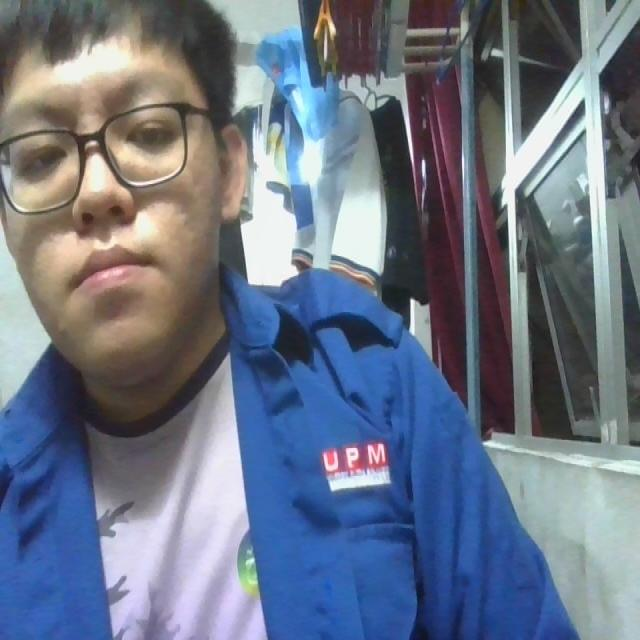person_with_labcoat: (0, 0, 576, 639)
